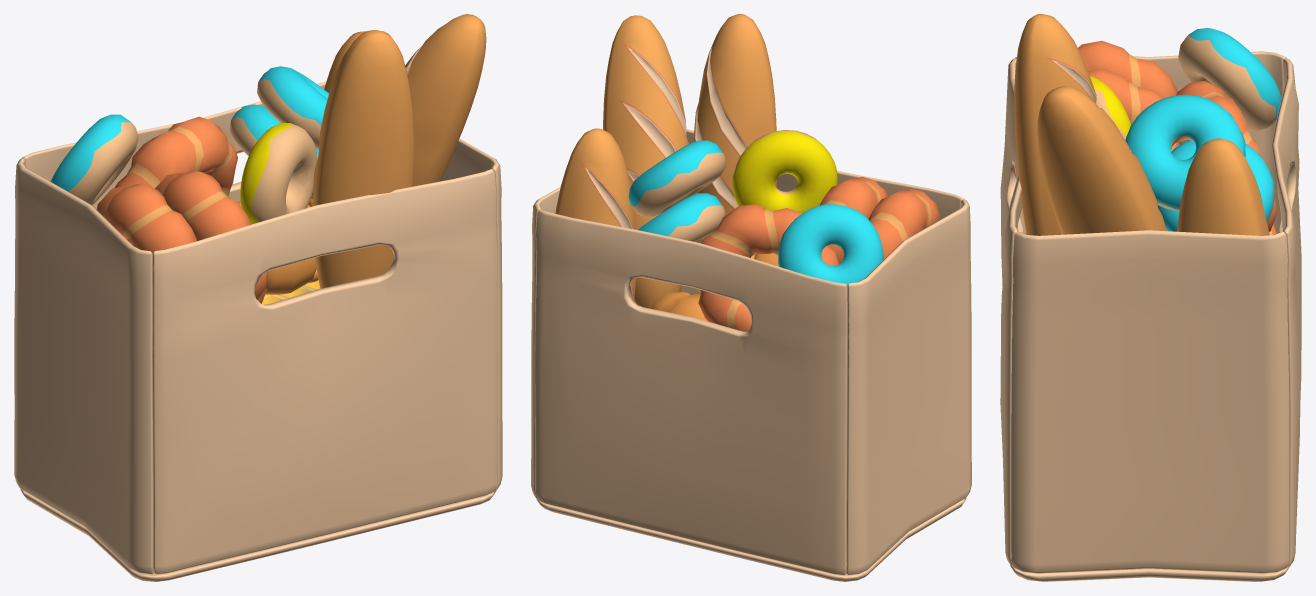
The model's file is level_161.fbx.
3 views of the same model, side by side, from view 1: azimuth 30°, elevation 25°; view 2: azimuth 150°, elevation 25°; view 3: azimuth 270°, elevation 25° (orthographic). The views are drawn at different scales.
Parts seen in each view (by area): view 1: Cube_L1_1, Cube_L1, Cube_L2_14, Cube_L2_20, Cube_L2_8, Cube_L2_7, Cube_L2_2, Cube_L2_1, Cube_L2_5, Cube_L1_2, Cube_L2_16, Cube_L1_3 (+3 smaller); view 2: Cube_L1_4, Cube_L1, Cube_L2_20, Cube_L2_14, Cube_L2_8, Cube_L2_2, Cube_L2_21, Cube_L2_7, Cube_L2_16, Cube_L1_2, Cube_L2_1, Cube_L2_13 (+4 smaller); view 3: Cube_L1_3, Cube_L2_20, Cube_L2_14, Cube_L1_4, Cube_L2_16, Cube_L2_21, Cube_L1_1, Cube_L2_2, Cube_L2_1, Cube_L1_2, Cube_L1, Cube_L2_13 (+3 smaller).
Part boxes in pixels (<box>): Cube_L1_1: <box>152,169,497,574</box>; Cube_L1: <box>14,158,153,574</box>; Cube_L2_14: <box>312,30,413,288</box>; Cube_L2_20: <box>405,14,486,186</box>; Cube_L2_8: <box>240,122,316,224</box>; Cube_L2_7: <box>114,116,237,196</box>; Cube_L2_2: <box>50,114,138,204</box>; Cube_L2_1: <box>96,184,196,253</box>; Cube_L2_5: <box>155,170,268,303</box>; Cube_L1_2: <box>20,489,496,581</box>; Cube_L2_16: <box>257,66,329,150</box>; Cube_L1_3: <box>441,138,502,490</box>; Cube_L1_4: <box>535,209,847,575</box>; Cube_L1: <box>846,199,971,575</box>; Cube_L2_20: <box>603,15,688,308</box>; Cube_L2_14: <box>693,14,776,215</box>; Cube_L2_8: <box>732,130,837,212</box>; Cube_L2_2: <box>778,204,883,300</box>; Cube_L2_21: <box>555,128,636,301</box>; Cube_L2_7: <box>698,204,838,331</box>; Cube_L2_16: <box>628,140,725,217</box>; Cube_L1_2: <box>536,498,966,581</box>; Cube_L2_1: <box>868,189,939,259</box>; Cube_L2_13: <box>638,193,725,243</box>; Cube_L1_3: <box>1011,230,1289,573</box>; Cube_L2_20: <box>1037,86,1166,234</box>; Cube_L2_14: <box>1014,14,1096,235</box>; Cube_L1_4: <box>1271,58,1301,566</box>; Cube_L2_16: <box>1125,94,1245,210</box>; Cube_L2_21: <box>1177,138,1269,235</box>; Cube_L1_1: <box>1000,58,1022,566</box>; Cube_L2_2: <box>1178,28,1281,131</box>; Cube_L2_1: <box>1078,40,1177,98</box>; Cube_L1_2: <box>1010,565,1289,581</box>; Cube_L1: <box>1015,51,1286,234</box>; Cube_L2_13: <box>1158,140,1274,231</box>.
Bounding box in the file's own units: 8.43 × 10.59 × 5.66.
